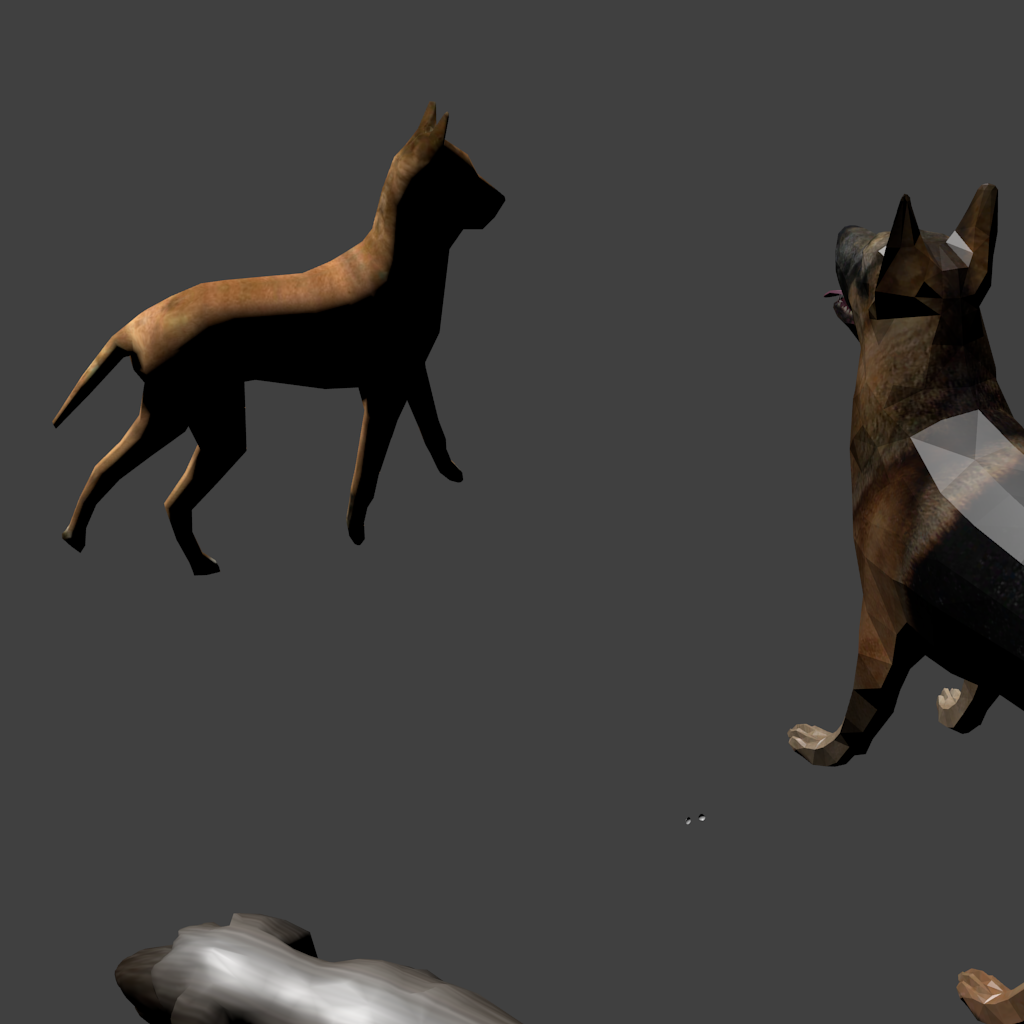Dog: (52, 101, 453, 474)
